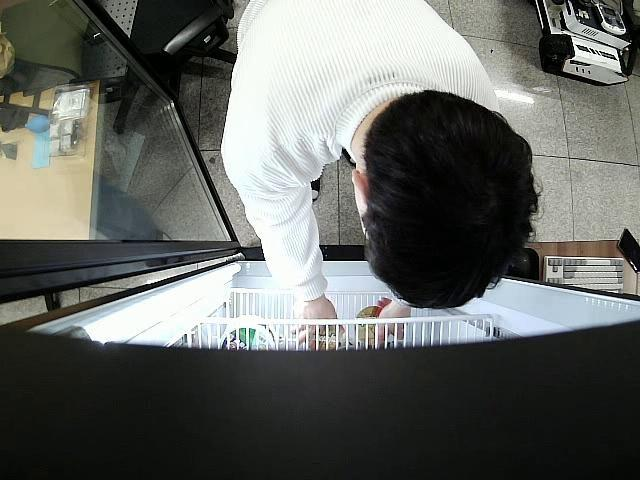04_chapagetti_S: (354, 305, 395, 348), (303, 318, 347, 353)
